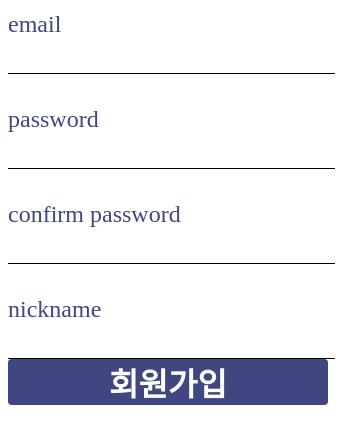
Test: Component/Organism/SignupForm › submit함수에서 에러가 발생했을 경우
Type "qkrdmstlr3@naver.com" into the field labelled "email".
click(172, 56); type("qkrdmstlr3@naver.com")  # box top-left (8, 38), bottom-right (335, 74)
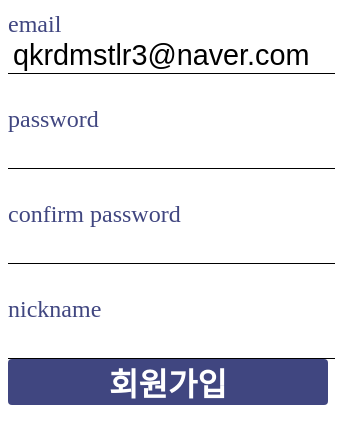
Type "shellboy" into the field labelled "nickname".
click(172, 341); type("shellboy")  # box top-left (8, 323), bottom-right (335, 359)
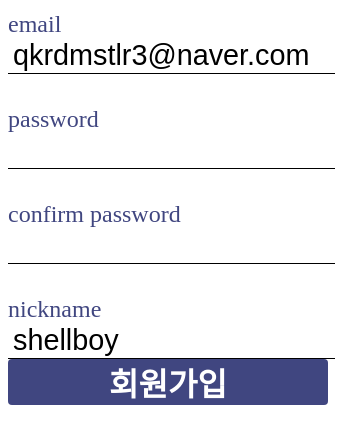
Type "1q2w3e4r" into the password field labelled "password".
click(172, 151); type("1q2w3e4r")  # box top-left (8, 133), bottom-right (335, 169)
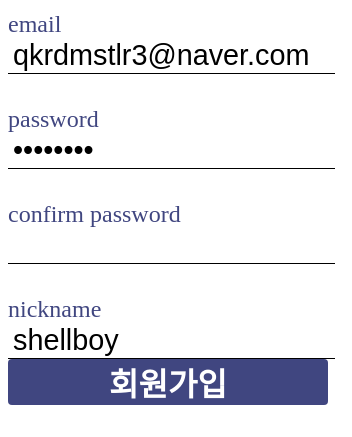
Type "1q2w3e4r" into the password field named "confirmPassword".
click(172, 246); type("1q2w3e4r")  # box top-left (8, 228), bottom-right (335, 264)
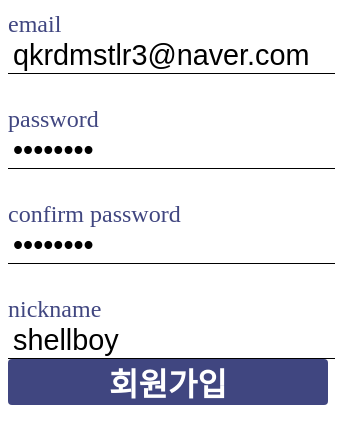
Click the button "회원가입".
click(168, 382)  # box top-left (8, 359), bottom-right (328, 405)
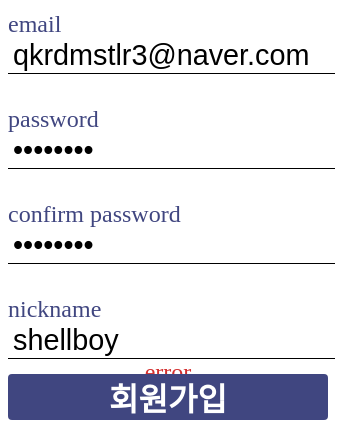
Check: the text "error" is shown, box top-left (145, 359), bottom-right (191, 374)
